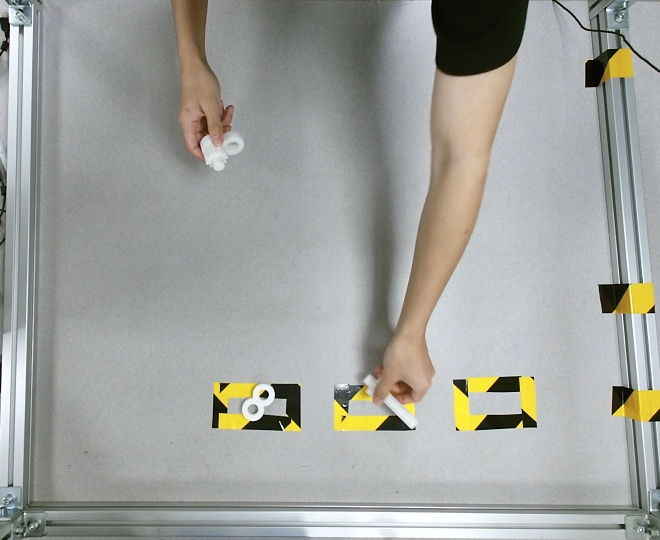stage_2: (199, 130, 243, 170)
